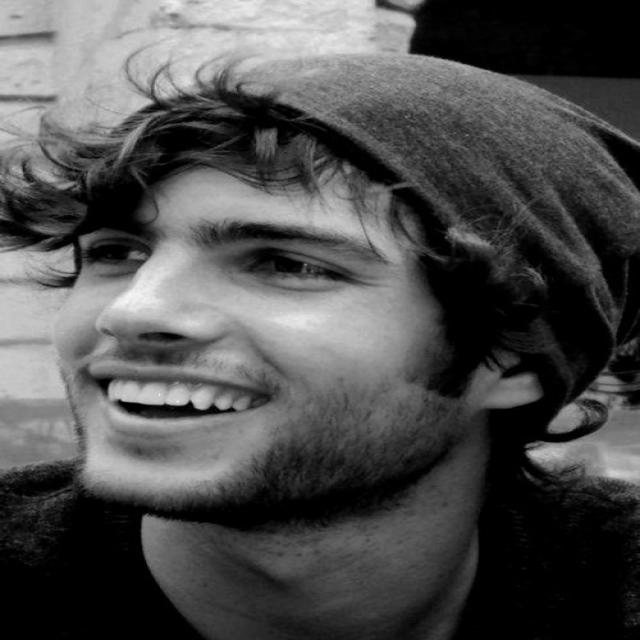front: (69, 218, 387, 492)
